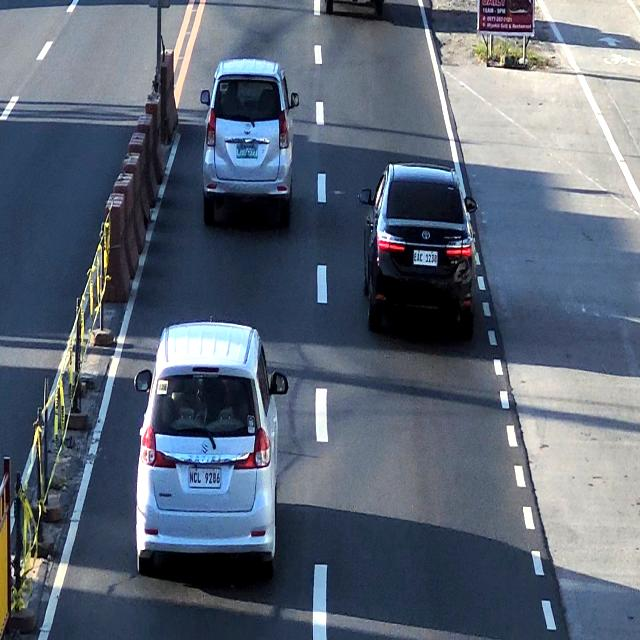Car: (144, 323, 276, 578), (368, 162, 468, 326), (202, 64, 292, 218)
License-Plate: (186, 464, 223, 493), (413, 247, 438, 270), (234, 140, 258, 162)
